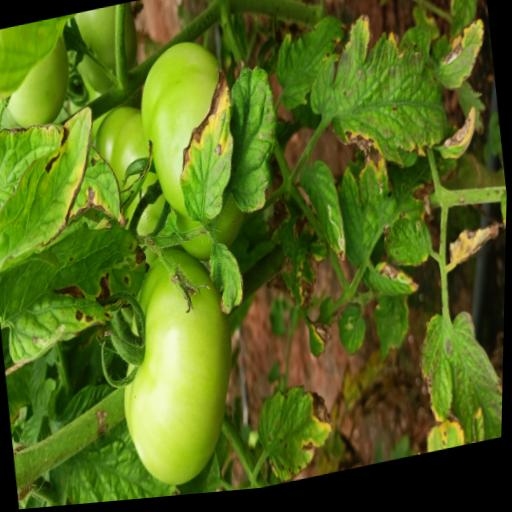Early Blight: (299, 7, 458, 190), (0, 210, 161, 366), (162, 59, 250, 234)
